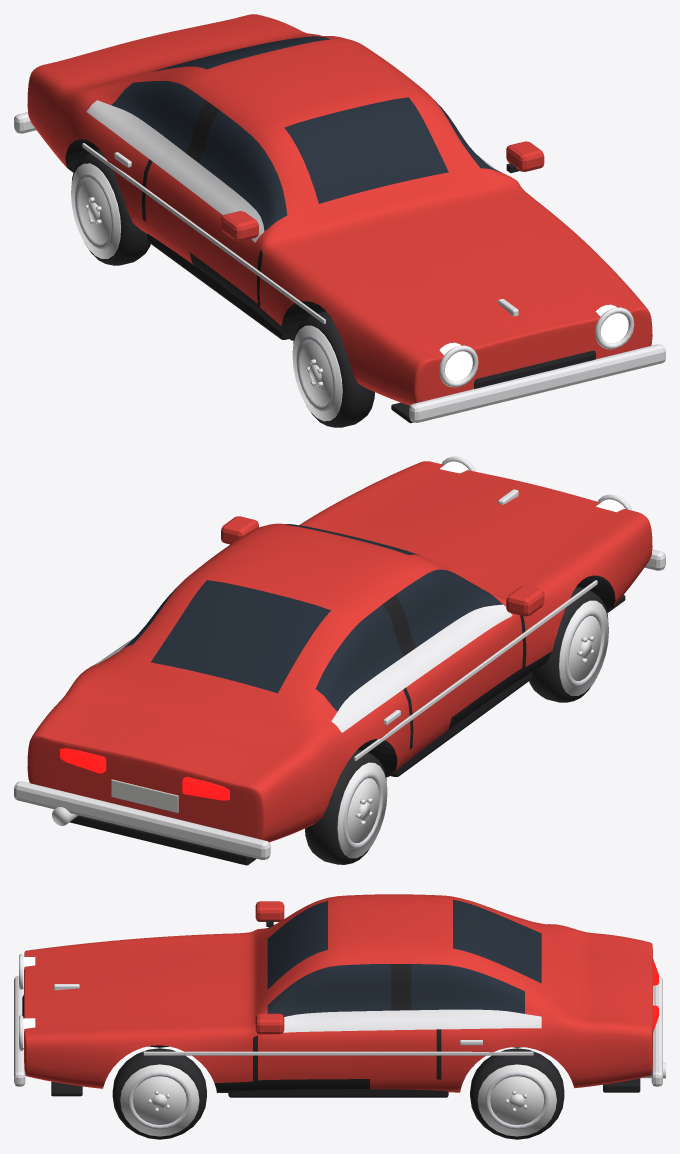
Rendered from vira_mid.glb.
3 renders of one model, top to bottom at view 1: azimuth 30°, elevation 25°; view 2: azimuth 150°, elevation 25°; view 3: azimuth 270°, elevation 25°, orthographic. The views are drawn at different scales.
Visible parts, largest first — view 1: body, wheel_fr, wheel_rr; view 2: body, wheel_rr, wheel_fr; view 3: body, wheel_rl, wheel_fl.
Boxes of the visible parts, bbox=[...] form: body: bbox=[14, 14, 665, 423]; wheel_fr: bbox=[292, 311, 374, 427]; wheel_rr: bbox=[71, 150, 150, 265]; body: bbox=[14, 456, 665, 865]; wheel_rr: bbox=[305, 749, 387, 864]; wheel_fr: bbox=[529, 586, 608, 702]; body: bbox=[14, 894, 665, 1097]; wheel_rl: bbox=[470, 1048, 564, 1139]; wheel_fl: bbox=[112, 1048, 206, 1139].
Size of the model in its own units: 2.02 by 1.32 by 4.56.
